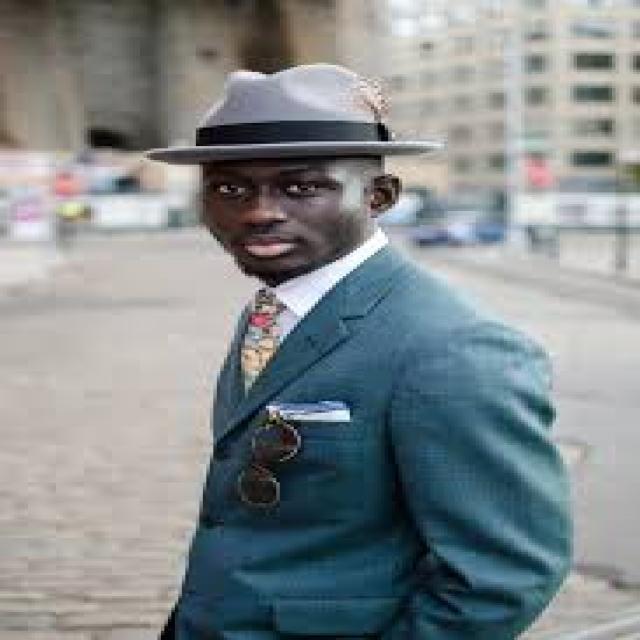hat: (152, 51, 440, 188)
